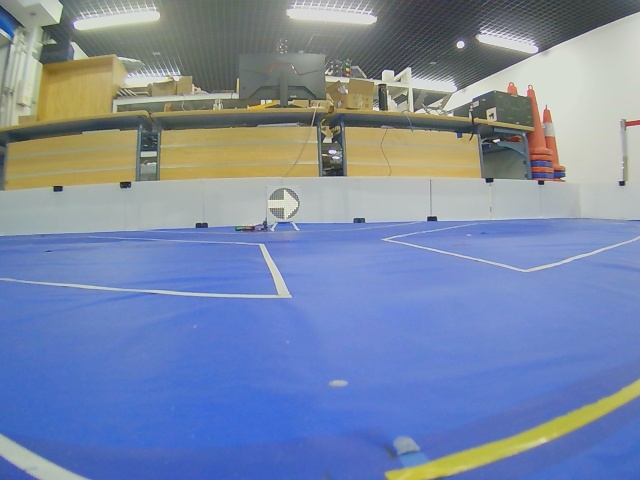right_yellow: (267, 188, 300, 221)
